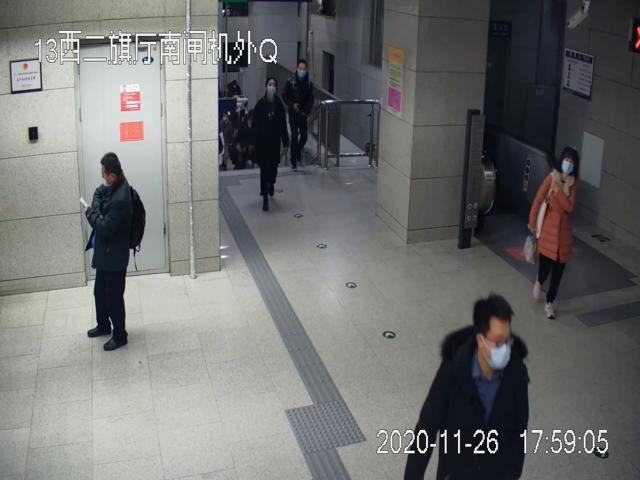person: (81, 152, 146, 351), (524, 146, 578, 318), (251, 76, 288, 212), (284, 59, 313, 173)
